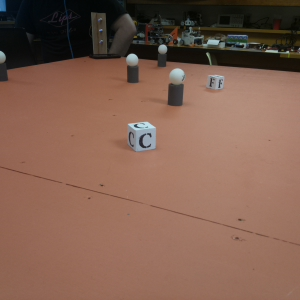blockC: (126, 121, 157, 152)
blockF: (207, 74, 224, 91)
corner: (92, 14, 107, 54)
obstacle: (168, 69, 185, 106), (125, 54, 140, 84), (157, 43, 168, 66), (1, 49, 8, 83)
